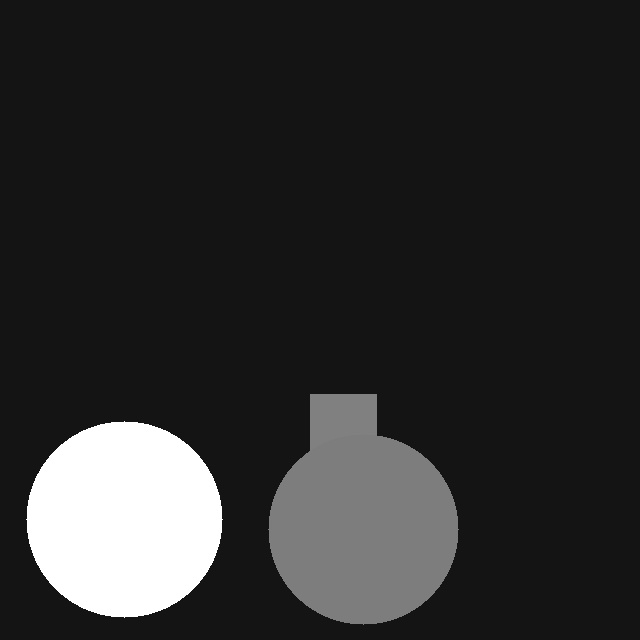circle: (26, 421, 222, 617), (268, 434, 458, 624)
square: (310, 394, 376, 460)
